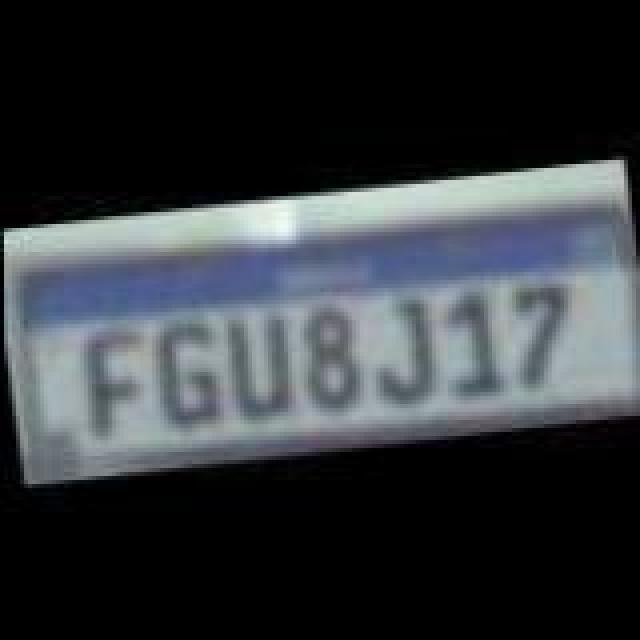1: (444, 282, 508, 402)
7: (496, 272, 576, 392)
8: (292, 296, 364, 420)
F: (78, 322, 154, 446)
G: (148, 312, 228, 436)
J: (360, 286, 448, 406)
U: (218, 302, 294, 422)
